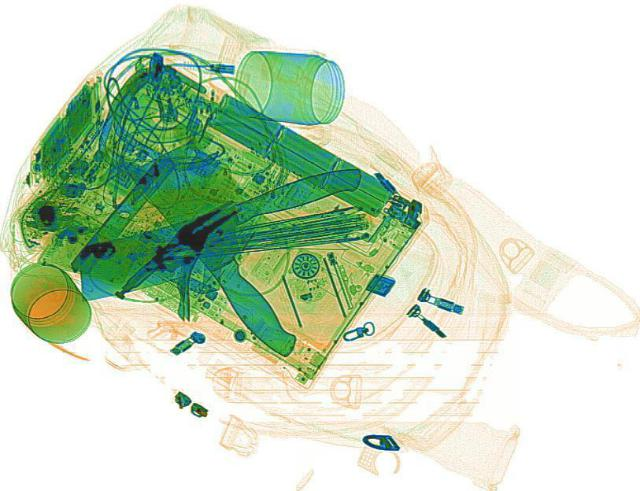Knife: (124, 138, 344, 363), (54, 163, 388, 300)
